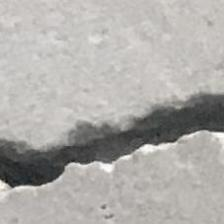Crack: (0, 88, 224, 194)
